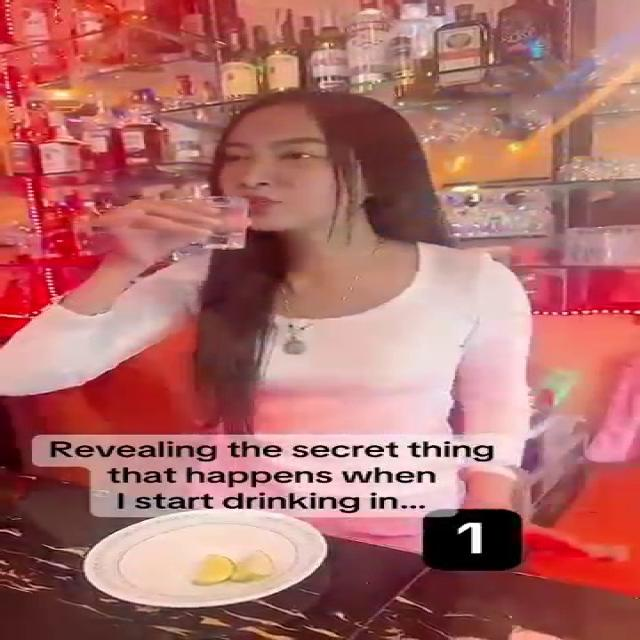Cup: (200, 196, 249, 248)
Hand: (96, 188, 230, 268)
Mouth: (235, 193, 295, 211)
